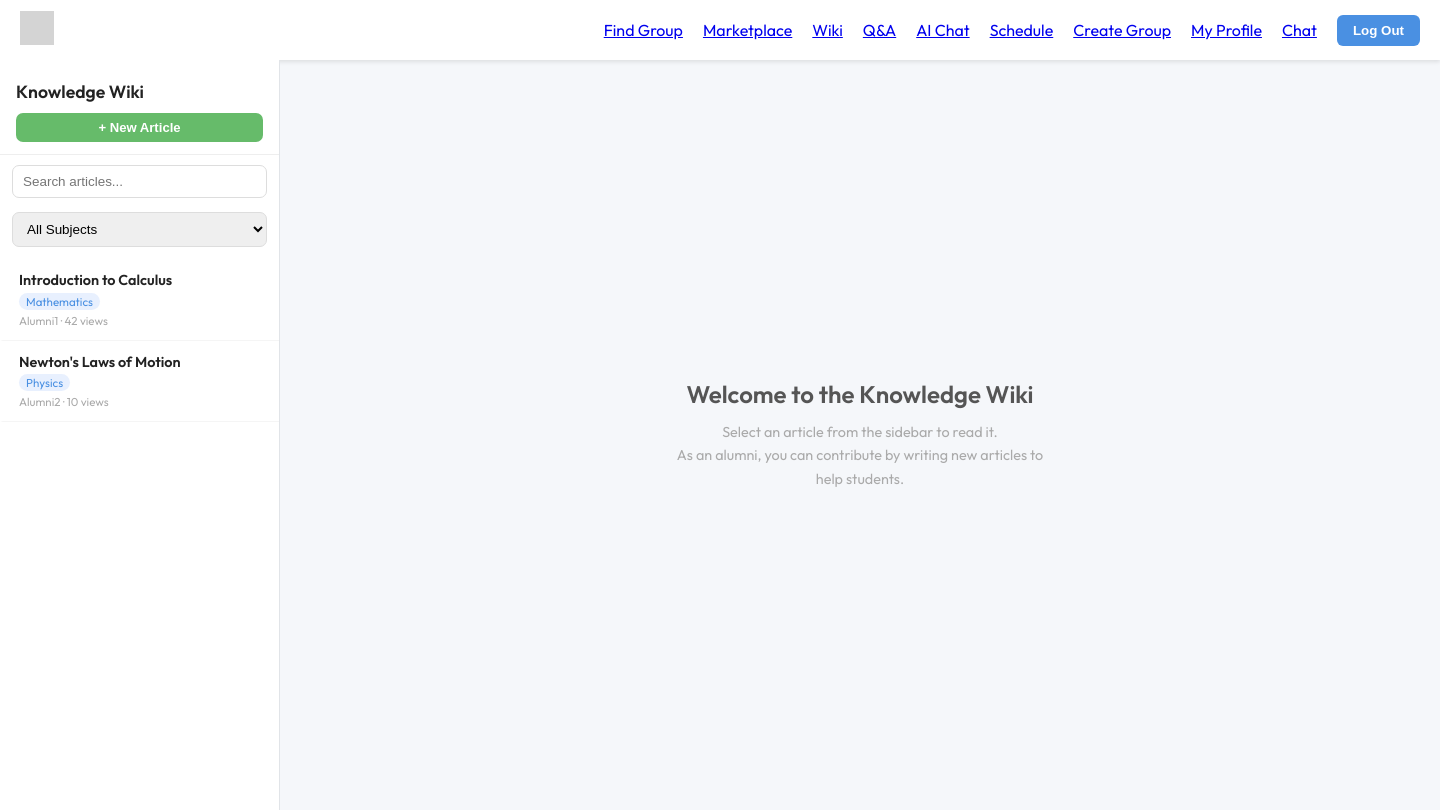
Wiki page › alumni author sees Edit and Delete buttons on own article
The width and height of the screenshot is (1440, 810).
Step 1. Click the text "Introduction to Calculus" → (96, 280), box x1=19 y1=271 x2=172 y2=289
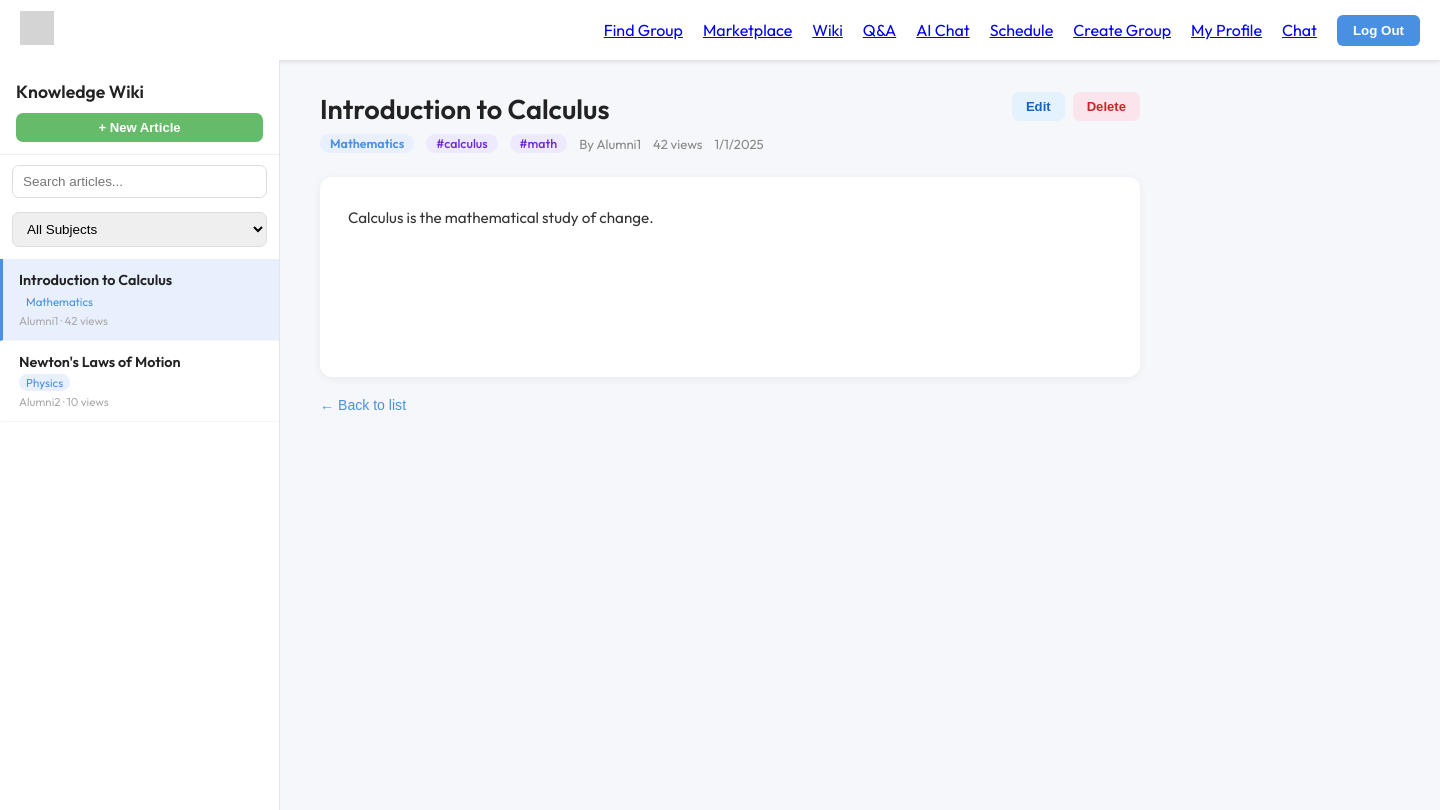
Expected: the button "Edit" is shown, x1=1012 y1=92 x2=1065 y2=121
Expected: the button "Delete" is shown, x1=1073 y1=92 x2=1140 y2=121
